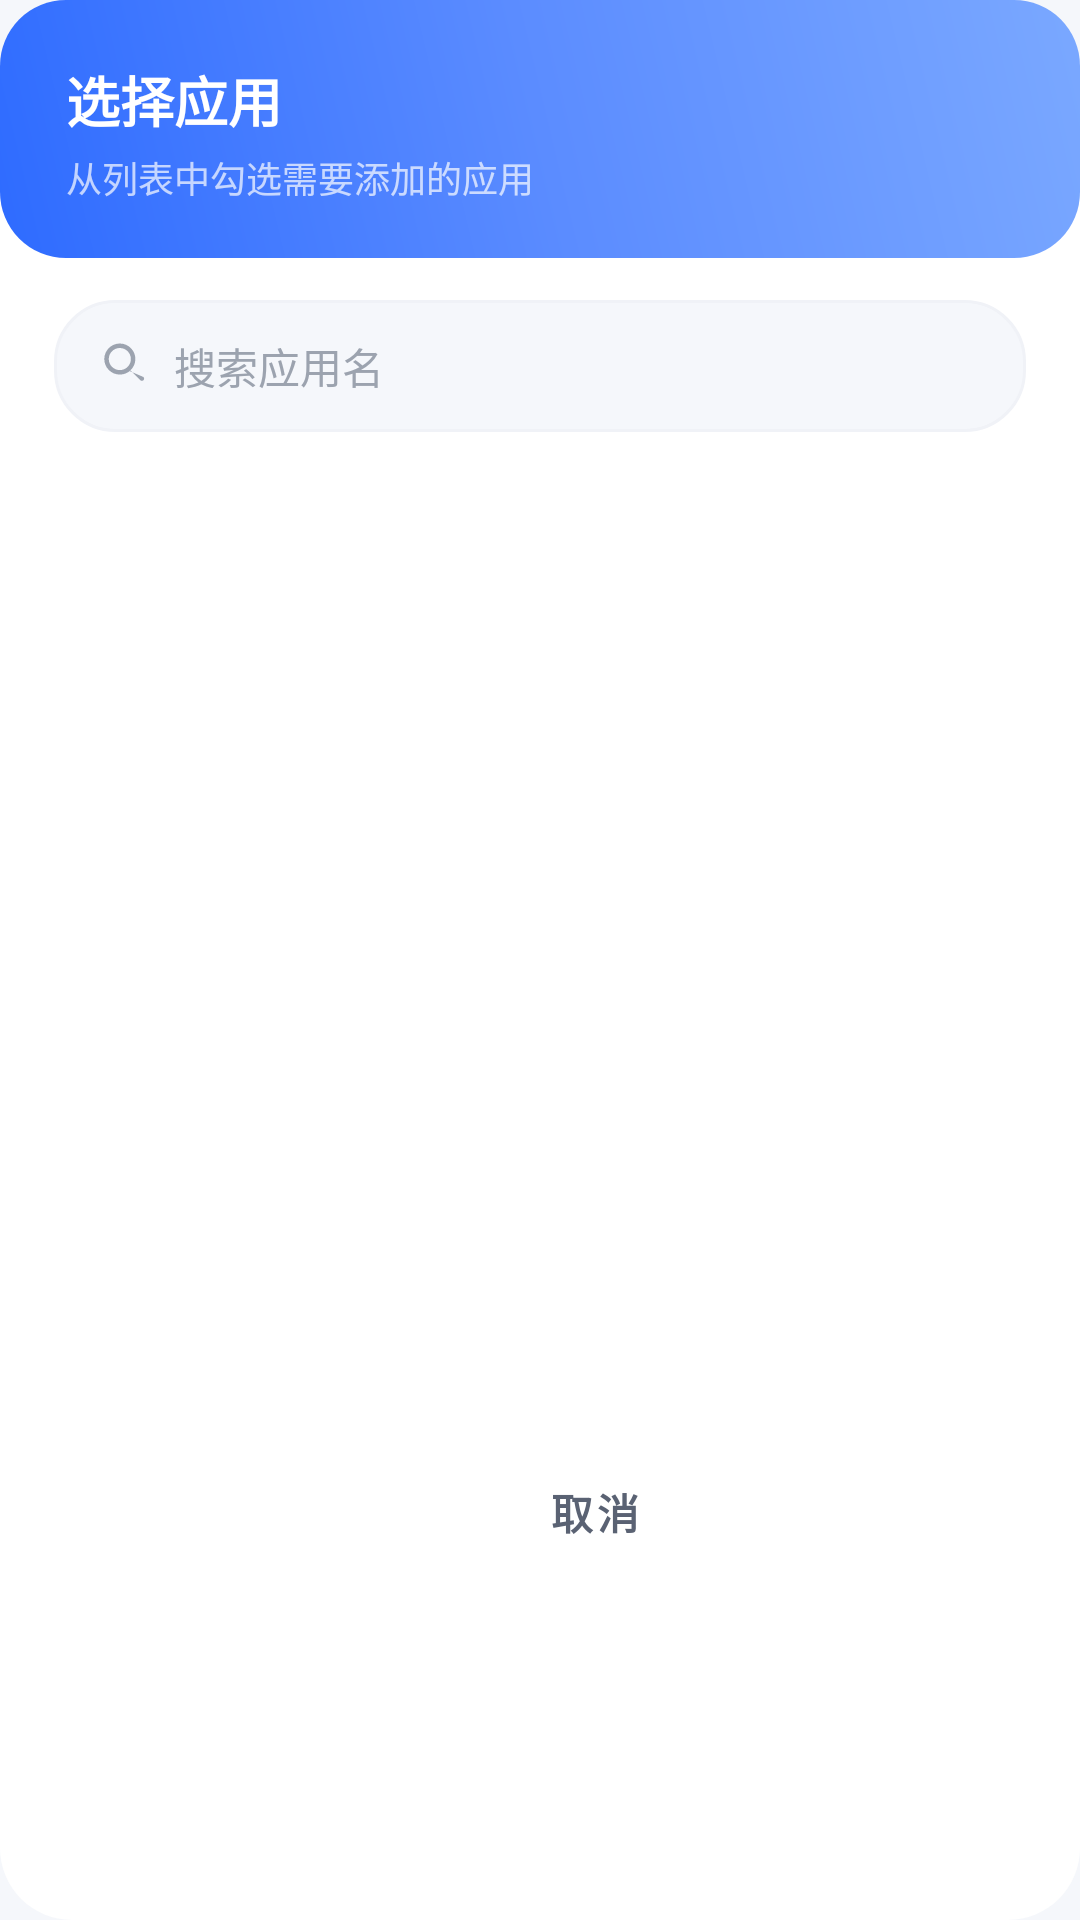

Point at icon controls on the screen. Image size 1080*1920, points as [x,y].
search: [124,362]
